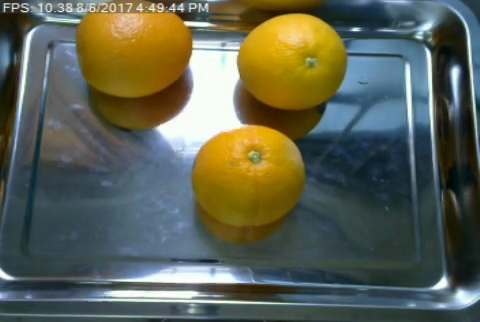Orange: (191, 124, 305, 226), (236, 12, 346, 111), (75, 13, 192, 98)
